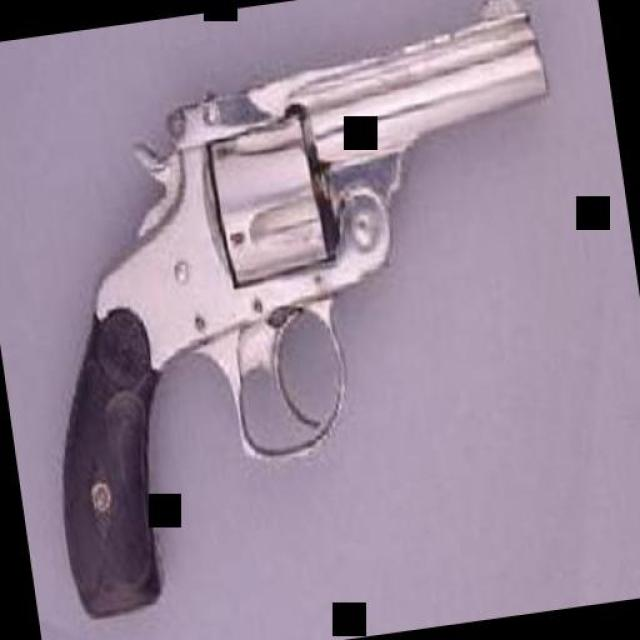gun: (0, 0, 614, 631)
